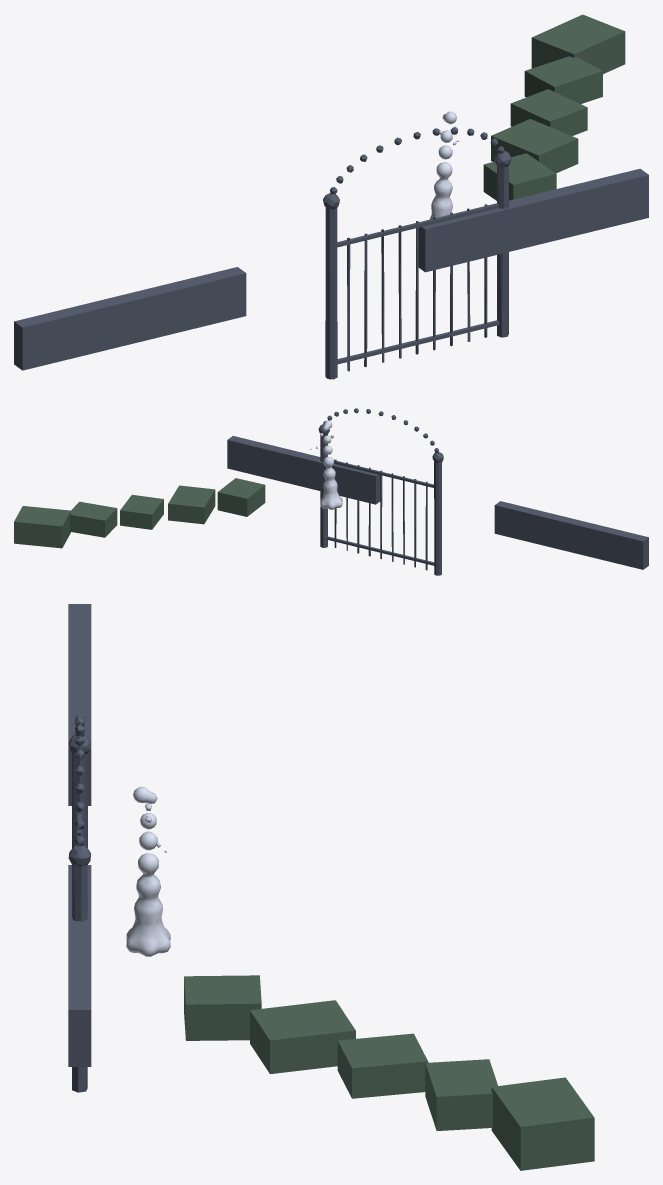
Rendered from scene_gate.glb.
3 views of the same model, one above another, from view 1: azimuth 30°, elevation 25°; view 2: azimuth 150°, elevation 25°; view 3: azimuth 270°, elevation 25° (orthographic). The views are drawn at different scales.
Visible parts, largest first — view 1: wall_-5, wall_5, GATE, moss_4, moss_1, moss_3, moss_2, moss_0, FATE; view 2: wall_-5, wall_5, GATE, moss_4, moss_1, moss_0, moss_3, moss_2, FATE; view 3: moss_4, moss_1, moss_2, moss_0, moss_3, wall_5, FATE, GATE, wall_-5.
Part boxes in pixels (box(x1,y1,x2,y2)): wall_-5: box(14, 267, 246, 370); wall_5: box(418, 168, 648, 272); GATE: box(323, 127, 511, 379); moss_4: box(531, 14, 625, 73); moss_1: box(491, 119, 578, 173); moss_3: box(524, 56, 602, 103); moss_2: box(510, 89, 587, 135); moss_0: box(483, 153, 556, 200); FATE: box(429, 111, 459, 219); wall_-5: box(494, 501, 648, 569); wall_5: box(227, 436, 380, 504); GATE: box(318, 408, 443, 575); moss_4: box(14, 506, 70, 548); moss_1: box(168, 485, 215, 524); moss_0: box(217, 478, 265, 516); moss_3: box(70, 501, 117, 537); moss_2: box(120, 494, 163, 529); FATE: box(310, 420, 342, 509); moss_4: box(491, 1077, 594, 1170); moss_1: box(250, 1000, 355, 1074); moss_2: box(337, 1033, 428, 1098); moss_0: box(184, 975, 261, 1040); moss_3: box(425, 1059, 497, 1130); wall_5: box(68, 865, 91, 1066); FATE: box(126, 786, 170, 956); GATE: box(68, 714, 91, 1092); wall_-5: box(68, 604, 91, 805).
Size of what is drawn, in the model's own units: 20.73 by 5.74 by 9.2.
